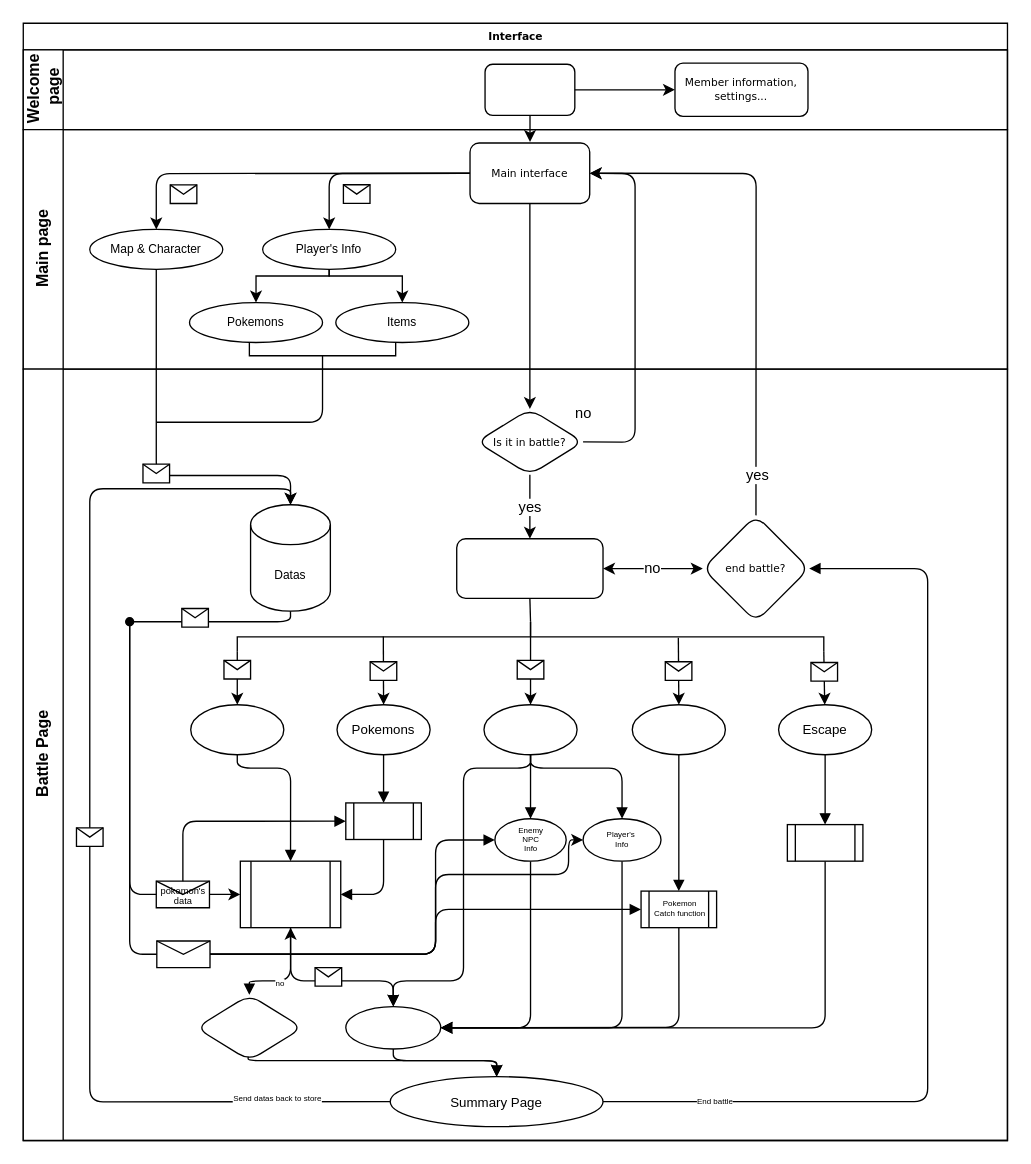
This 1031x1164 diagram has some shape labels left out. The box of each missing label's shape, as (x1, y1, x2, y2) in pixels:
Battle interface: (455, 537, 603, 598)
Catch: (631, 703, 725, 755)
Combat: (189, 703, 284, 755)
Combat finished?: (195, 994, 303, 1061)
Combat Function: (239, 860, 341, 928)
Escape Function (Rand): (786, 823, 863, 861)
Infomations: (483, 703, 577, 755)
Messages: (344, 1005, 441, 1049)
Pokemon switch check: (344, 802, 421, 839)
Welcome interface: (484, 63, 575, 115)
